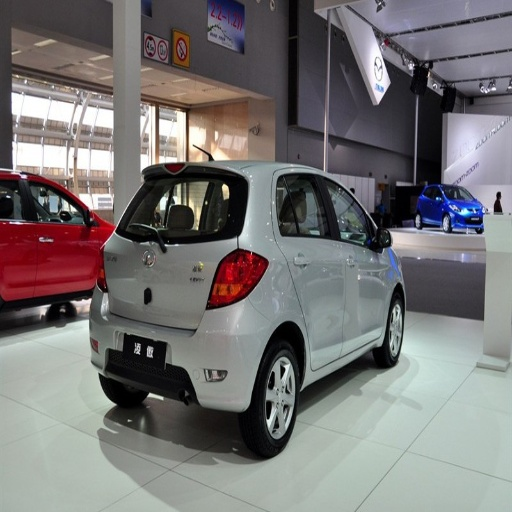back_bumper: (90, 293, 272, 410)
back_right_door: (276, 172, 346, 369), (2, 175, 34, 288)
tailgate: (150, 268, 210, 328)
trunk: (108, 241, 232, 329)
